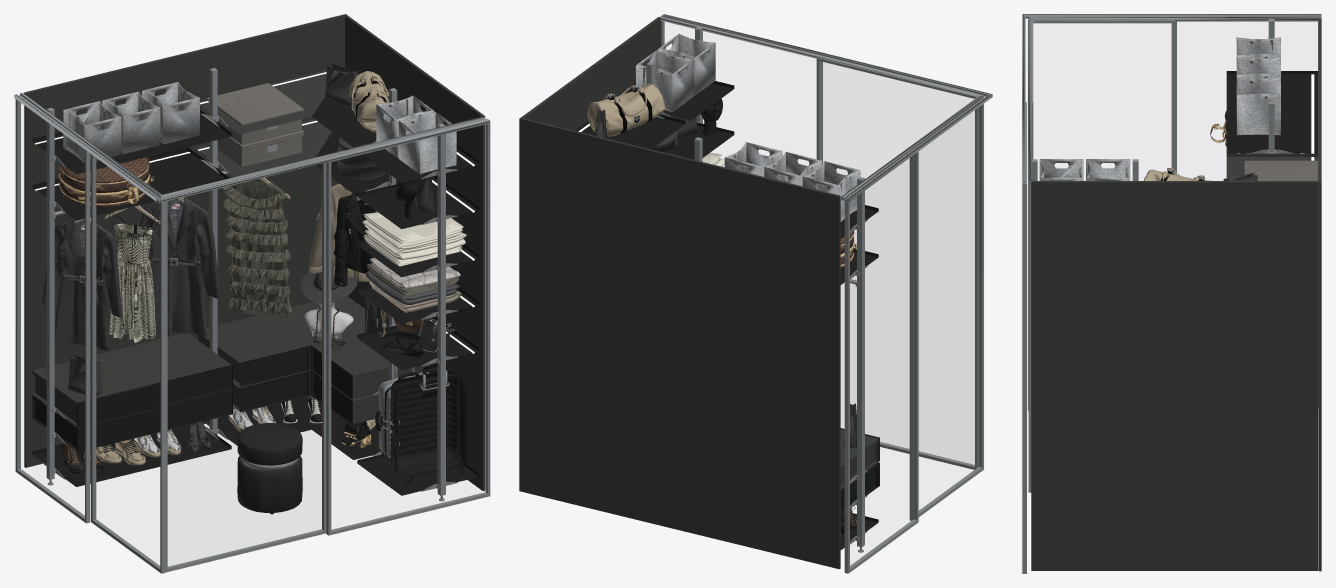
Rendered from bedroom-wardrobe-3.mobile.glb.
3 views of the same model, side by side, from view 1: azimuth 30°, elevation 25°; view 2: azimuth 150°, elevation 25°; view 3: azimuth 270°, elevation 25° (orthographic). The views are drawn at different scales.
Parts seen in each view (by area): view 1: bedroom-wardrobe-3; view 2: bedroom-wardrobe-3; view 3: bedroom-wardrobe-3.
Part boxes in pixels (box(x1,y1,x2,y2)): bedroom-wardrobe-3: box(14, 14, 490, 573); bedroom-wardrobe-3: box(519, 14, 992, 573); bedroom-wardrobe-3: box(1022, 14, 1321, 573).
Size of the model in its own units: 2.16 by 2.35 by 1.63.
65 materials, 21 textured.
